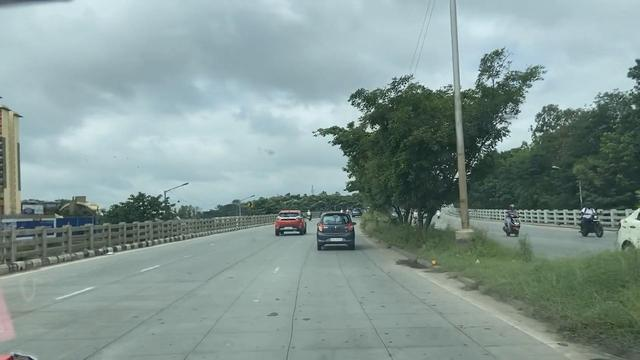LMV: (319, 212, 349, 244), (277, 209, 304, 233)
